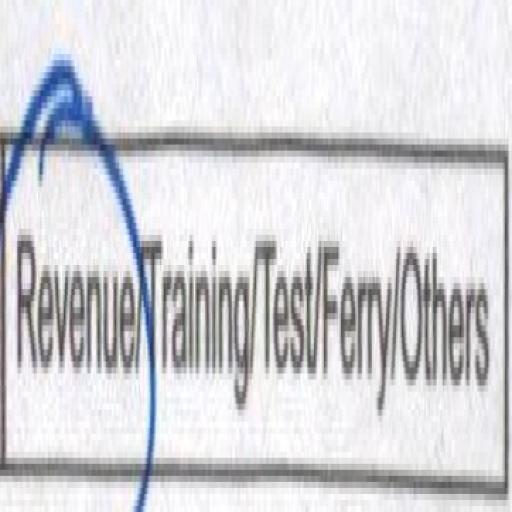check: (0, 24, 141, 500)
